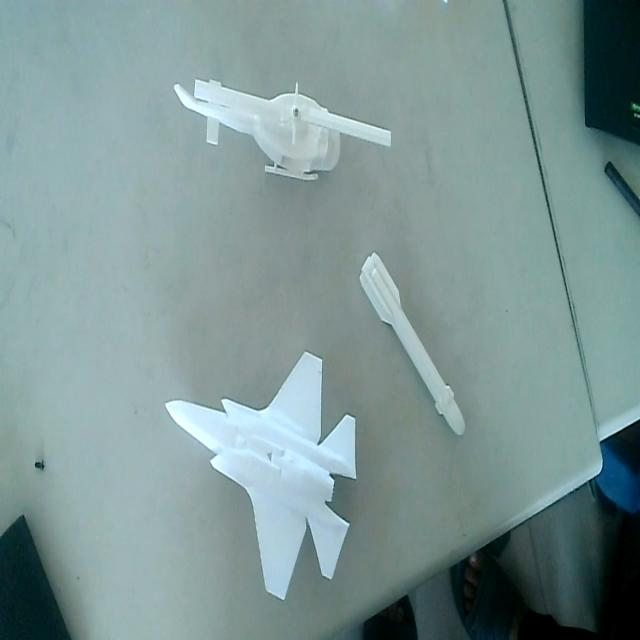Helicopter: (173, 66, 398, 197)
Jet: (162, 347, 358, 605)
Rocket: (356, 239, 469, 442)
